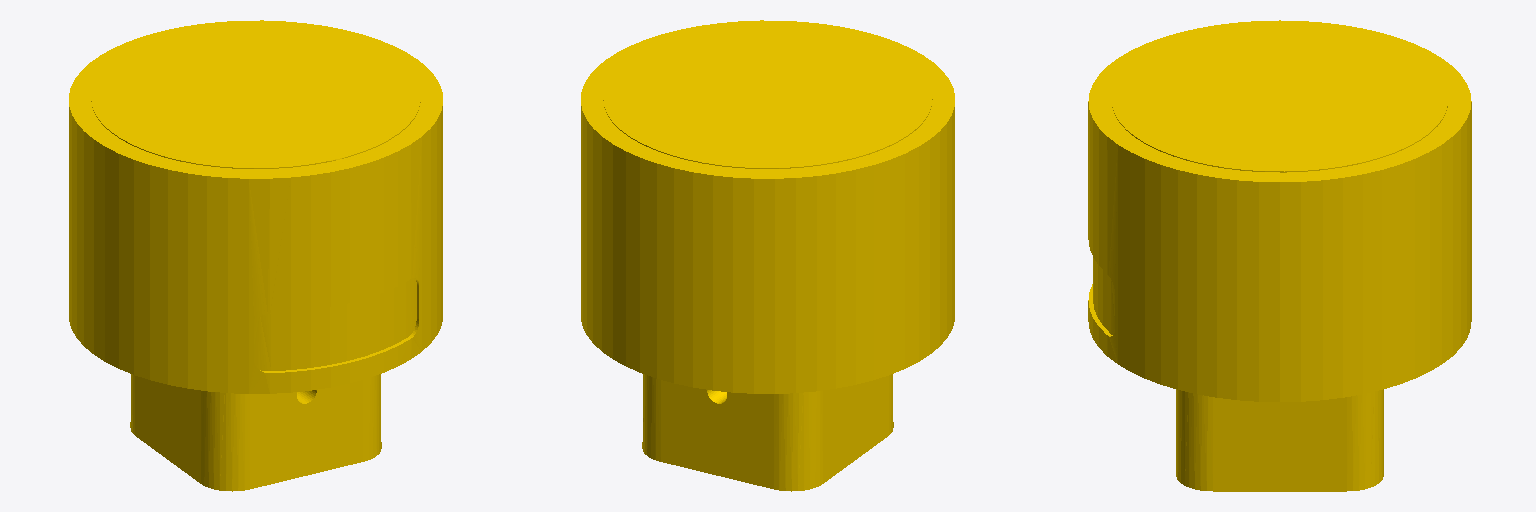
The robot description file, URDF, robot "spot":
<robot name="spot">
  <link name="base">
    <visual>
      <origin xyz="0 0 0" rpy="0 0 0"/>
      <geometry>
        <mesh filename="link_models/base.obj"/>
      </geometry>
<material name="base"> <color rgba="1 0.8431 0 1"/></material>    </visual>
  </link>
  <link name="fl.hip">
    <visual>
      <origin xyz="0 0 0" rpy="0 0 0"/>
      <geometry>
        <mesh filename="link_models/fl.hip.obj"/>
      </geometry>
<material name="fl.hip"> <color rgba="0.2 0.2 0.2 1"/></material>    </visual>
  </link>
  <joint name="fl.hx" type="revolute">
    <origin xyz="0.29785 0.05500 0.00000" rpy="0 0 0"/>
    <axis xyz="1 0 0"/>
    <parent link="base"/>
    <child link="fl.hip"/>
     <limit effort="1000" velocity="1000.00" lower="-0.797586" upper="0.775988"/>
  </joint>
  <link name="fl.uleg">
    <visual>
      <origin xyz="0 0 0" rpy="0 0 0"/>
      <geometry>
        <mesh filename="link_models/fl.uleg.obj"/>
      </geometry>
<material name="fl.uleg"> <color rgba="1 0.8431 0 1"/></material>    </visual>
  </link>
  <joint name="fl.hy" type="revolute">
    <origin xyz="0.0 0.110945 0.0" rpy="0 0 0"/>
    <axis xyz="0 1      0"/>
    <parent link="fl.hip"/>
    <child link="fl.uleg"/>
     <limit effort="1000" velocity="1000.00" lower="-0.877088" upper="2.26552"/>
  </joint>
  <link name="fl.lleg">
    <visual>
      <origin xyz="0 0 0" rpy="0 0 0"/>
      <geometry>
        <mesh filename="link_models/fl.lleg.obj"/>
      </geometry>
<material name="fl.lleg"> <color rgba="0.2 0.2 0.2 1"/></material>    </visual>
  </link>
  <joint name="fl.kn" type="revolute">
    <origin xyz="0.025 0.000 -0.3205" rpy="0 0 0"/>
    <axis xyz="0 1 0"/>
    <parent link="fl.uleg"/>
    <child link="fl.lleg"/>
     <limit effort="1000" velocity="1000.00" lower="-2.79627" upper="-0.295175"/>
  </joint>
  <link name="fr.hip">
    <visual>
      <origin xyz="0 0 0" rpy="0 0 0"/>
      <geometry>
        <mesh filename="link_models/fr.hip.obj"/>
      </geometry>
<material name="fr.hip"> <color rgba="0.2 0.2 0.2 1"/></material>    </visual>
  </link>
  <joint name="fr.hx" type="revolute">
    <origin xyz="0.29785 -0.05500 0.00000" rpy="0 0 0"/>
    <axis xyz="1 0 0"/>
    <parent link="base"/>
    <child link="fr.hip"/>
     <limit effort="1000" velocity="1000.00" lower="-0.785489" upper="0.782637"/>
  </joint>
  <link name="fr.uleg">
    <visual>
      <origin xyz="0 0 0" rpy="0 0 0"/>
      <geometry>
        <mesh filename="link_models/fr.uleg.obj"/>
      </geometry>
<material name="fr.uleg"> <color rgba="1 0.8431 0 1"/></material>    </visual>
  </link>
  <joint name="fr.hy" type="revolute">
    <origin xyz="0.0 -0.110945 0.0" rpy="0 0 0"/>
    <axis xyz="0  1      0"/>
    <parent link="fr.hip"/>
    <child link="fr.uleg"/>
     <limit effort="1000" velocity="1000.00" lower="-0.874232" upper="2.27176"/>
  </joint>
  <link name="fr.lleg">
    <visual>
      <origin xyz="0 0 0" rpy="0 0 0"/>
      <geometry>
        <mesh filename="link_models/fr.lleg.obj"/>
      </geometry>
<material name="fr.lleg"> <color rgba="0.2 0.2 0.2 1"/></material>    </visual>
  </link>
  <joint name="fr.kn" type="revolute">
    <origin xyz="0.025 0.000 -0.3205" rpy="0 0 0"/>
    <axis xyz="0 1 0"/>
    <parent link="fr.uleg"/>
    <child link="fr.lleg"/>
     <limit effort="1000" velocity="1000.00" lower="-2.78876" upper="-0.294079"/>
  </joint>
  <link name="hl.hip">
    <visual>
      <origin xyz="0 0 0" rpy="0 0 0"/>
      <geometry>
        <mesh filename="link_models/hl.hip.obj"/>
      </geometry>
<material name="hl.hip"> <color rgba="0.2 0.2 0.2 1"/></material>    </visual>
  </link>
  <joint name="hl.hx" type="revolute">
    <origin xyz="-0.29785 0.05500 0.00000" rpy="0 0 0"/>
    <axis xyz="1 0 0"/>
    <parent link="base"/>
    <child link="hl.hip"/>
     <limit effort="1000" velocity="1000.00" lower="-0.790276" upper="0.774845"/>
  </joint>
  <link name="hl.uleg">
    <visual>
      <origin xyz="0 0 0" rpy="0 0 0"/>
      <geometry>
        <mesh filename="link_models/hl.uleg.obj"/>
      </geometry>
<material name="hl.uleg"> <color rgba="1 0.8431 0 1"/></material>    </visual>
  </link>
  <joint name="hl.hy" type="revolute">
    <origin xyz="0.0 0.110945 0.0" rpy="0 0 0"/>
    <axis xyz="0 1      0"/>
    <parent link="hl.hip"/>
    <child link="hl.uleg"/>
     <limit effort="1000" velocity="1000.00" lower="-0.884654" upper="2.25395"/>
  </joint>
  <link name="hl.lleg">
    <visual>
      <origin xyz="0 0 0" rpy="0 0 0"/>
      <geometry>
        <mesh filename="link_models/hl.lleg.obj"/>
      </geometry>
<material name="hl.lleg"> <color rgba="0.2 0.2 0.2 1"/></material>    </visual>
  </link>
  <joint name="hl.kn" type="revolute">
    <origin xyz="0.025 0.000 -0.3205" rpy="0 0 0"/>
    <axis xyz="0 1 0"/>
    <parent link="hl.uleg"/>
    <child link="hl.lleg"/>
     <limit effort="1000" velocity="1000.00" lower="-2.78558" upper="-0.294352"/>
  </joint>
  <link name="hr.hip">
    <visual>
      <origin xyz="0 0 0" rpy="0 0 0"/>
      <geometry>
        <mesh filename="link_models/hr.hip.obj"/>
      </geometry>
<material name="hr.hip"> <color rgba="0.2 0.2 0.2 1"/></material>    </visual>
  </link>
  <joint name="hr.hx" type="revolute">
    <origin xyz="-0.29785 -0.05500 0.00000" rpy="0 0 0"/>
    <axis xyz="1 0 0"/>
    <parent link="base"/>
    <child link="hr.hip"/>
     <limit effort="1000" velocity="1000.00" lower="-0.780675" upper="0.793109"/>
  </joint>
  <link name="hr.uleg">
    <visual>
      <origin xyz="0 0 0" rpy="0 0 0"/>
      <geometry>
        <mesh filename="link_models/hr.uleg.obj"/>
      </geometry>
<material name="hr.uleg"> <color rgba="1 0.8431 0 1"/></material>    </visual>
  </link>
  <joint name="hr.hy" type="revolute">
    <origin xyz="0.0 -0.110945 0.0" rpy="0 0 0"/>
    <axis xyz="0  1      0"/>
    <parent link="hr.hip"/>
    <child link="hr.uleg"/>
     <limit effort="1000" velocity="1000.00" lower="-0.8793" upper="2.26657"/>
  </joint>
  <link name="hr.lleg">
    <visual>
      <origin xyz="0 0 0" rpy="0 0 0"/>
      <geometry>
        <mesh filename="link_models/hr.lleg.obj"/>
      </geometry>
<material name="hr.lleg"> <color rgba="0.2 0.2 0.2 1"/></material>    </visual>
  </link>
  <joint name="hr.kn" type="revolute">
    <origin xyz="0.025 0.000 -0.3205" rpy="0 0 0"/>
    <axis xyz="0 1 0"/>
    <parent link="hr.uleg"/>
    <child link="hr.lleg"/>
     <limit effort="1000" velocity="1000.00" lower="-2.78787" upper="-0.28764"/>
  </joint>
  <link name="arm0.link_sh0">
    <visual>
      <origin xyz="0 0 0" rpy="0 0 0"/>
      <geometry>
        <mesh filename="link_models/arm0.link_sh0.obj"/>
      </geometry>
<material name="arm0.link_sh0"> <color rgba="0.2 0.2 0.2 1"/></material>    </visual>
  </link>
  <joint name="arm0.sh0" type="revolute">
    <origin xyz="0.292 0.0 0.188" rpy="0 0 0"/>
    <axis xyz="0 0 1"/>
    <parent link="base"/>
    <child link="arm0.link_sh0"/>
     <limit effort="1000" velocity="1000.00" lower="-2.61799387799149441136" upper="3.14159265358979311599"/>
  </joint>
  <link name="arm0.link_sh1">
    <visual>
      <origin xyz="0 0 0" rpy="0 0 0"/>
      <geometry>
        <mesh filename="link_models/arm0.link_sh1.obj"/>
      </geometry>
<material name="arm0.link_sh1"> <color rgba="0.2 0.2 0.2 1"/></material>    </visual>
  </link>
  <joint name="arm0.sh1" type="revolute">
    <origin xyz="0.0 0.0 0.0" rpy="0 0 0"/>
    <axis xyz="0 1 0"/>
    <parent link="arm0.link_sh0"/>
    <child link="arm0.link_sh1"/>
     <limit effort="1000" velocity="1000.00" lower="-3.14159265358979311599" upper="0.52359877559829881565"/>
  </joint>
  <link name="arm0.link_hr0">
    <visual>
      <origin xyz="0 0 0" rpy="0 0 0"/>
      <geometry>
        <mesh filename="link_models/arm0.link_hr0.obj"/>
      </geometry>
<material name="arm0.link_hr0"> <color rgba="0.2 0.2 0.2 1"/></material>    </visual>
  </link>
  <joint name="arm0.hr0" type="revolute">
    <origin xyz="0.0 0.0 0.0" rpy="0 0 0"/>
    <axis xyz="1 0 0"/>
    <parent link="arm0.link_sh1"/>
    <child link="arm0.link_hr0"/>
     <limit effort="1000" velocity="1000.00" lower="-1e6" upper="1e6"/>
  </joint>
  <link name="arm0.link_el0">
    <visual>
      <origin xyz="0 0 0" rpy="0 0 0"/>
      <geometry>
        <mesh filename="link_models/arm0.link_el0.obj"/>
      </geometry>
<material name="arm0.link_el0"> <color rgba="0.2 0.2 0.2 1"/></material>    </visual>
  </link>
  <joint name="arm0.el0" type="revolute">
    <origin xyz="0.3385 0 0" rpy="0 0 0"/>
    <axis xyz="0 1 0"/>
    <parent link="arm0.link_hr0"/>
    <child link="arm0.link_el0"/>
     <limit effort="1000" velocity="1000.00" lower="0" upper="3.14159265358979311599"/>
  </joint>
  <link name="arm0.link_el1">
    <visual>
      <origin xyz="0 0 0" rpy="0 0 0"/>
      <geometry>
        <mesh filename="link_models/arm0.link_el1.obj"/>
      </geometry>
<material name="arm0.link_el1"> <color rgba="0.2 0.2 0.2 1"/></material>    </visual>
  </link>
  <joint name="arm0.el1" type="revolute">
    <origin xyz="0.40330 0.0 0.0750" rpy="0 0 0"/>
    <axis xyz="1 0 0"/>
    <parent link="arm0.link_el0"/>
    <child link="arm0.link_el1"/>
     <limit effort="1000" velocity="1000.00" lower="-2.79252680319092716487" upper="2.79252680319092716487"/>
  </joint>
  <link name="arm0.link_wr0">
    <visual>
      <origin xyz="0 0 0" rpy="0 0 0"/>
      <geometry>
        <mesh filename="link_models/arm0.link_wr0.obj"/>
      </geometry>
<material name="arm0.link_wr0"> <color rgba="0.2 0.2 0.2 1"/></material>    </visual>
  </link>
  <joint name="arm0.wr0" type="revolute">
    <origin xyz="0.0 0.0 0.0" rpy="0 0 0"/>
    <axis xyz="0 1 0"/>
    <parent link="arm0.link_el1"/>
    <child link="arm0.link_wr0"/>
     <limit effort="1000" velocity="1000.00" lower="-1.83259571459404613236" upper="1.83259571459404613236"/>
  </joint>
  <link name="arm0.link_wr1">
    <visual>
      <origin xyz="0 0 0" rpy="0 0 0"/>
      <geometry>
        <mesh filename="link_models/arm0.link_wr1.obj"/>
      </geometry>
<material name="arm0.link_wr1"> <color rgba="0.2 0.2 0.2 1"/></material>    </visual>
  </link>
  <joint name="arm0.wr1" type="revolute">
    <origin xyz="0.0 0.0 0.0" rpy="0 0 0"/>
    <axis xyz="1 0 0"/>
    <parent link="arm0.link_wr0"/>
    <child link="arm0.link_wr1"/>
     <limit effort="1000" velocity="1000.00" lower="-2.87979326579064354163" upper="2.87979326579064354163"/>
  </joint>
  <link name="arm0.link_fngr">
    <visual>
      <origin xyz="0 0 0" rpy="0 0 0"/>
      <geometry>
        <mesh filename="link_models/arm0.link_fngr.obj"/>
      </geometry>
<material name="arm0.link_fngr"> <color rgba="0.2 0.2 0.2 1"/></material>    </visual>
  </link>
  <joint name="arm0.f1x" type="revolute">
    <origin xyz="0.11745 0 0.014820" rpy="0 0 0"/>
    <axis xyz="0.0 1.0 0.0"/>
    <parent link="arm0.link_wr1"/>
    <child link="arm0.link_fngr"/>
     <limit effort="1000" velocity="1000.00" lower="-1.57" upper="0.0"/>
  </joint>
</robot>

--- Render facts (derived) ---
Views: 3 orthographic renders of the robot side by side, from view 1: azimuth 30°, elevation 25°; view 2: azimuth 150°, elevation 25°; view 3: azimuth 270°, elevation 25°.
Robot: spot — 21 links, 20 joints (20 revolute); root link base; default pose: all joints at 0 but 4 set to mid-range because 0 is outside their limits (fl.kn = -1.55, fr.kn = -1.54, hl.kn = -1.54, hr.kn = -1.54).
Visible links, largest first — view 1: base; view 2: base; view 3: base.
Boxes of the visible links, bbox=[...] form: base: bbox=[69, 20, 442, 491]; base: bbox=[581, 20, 954, 491]; base: bbox=[1088, 20, 1471, 491].
Bounding box of the posed robot: 0.0825 × 0.0825 × 0.0825 m (x, y, z).
1 mesh visuals loaded from 21 distinct referenced files (1 OBJ); not drawn: 20 (reference not matched to a file when rendering).